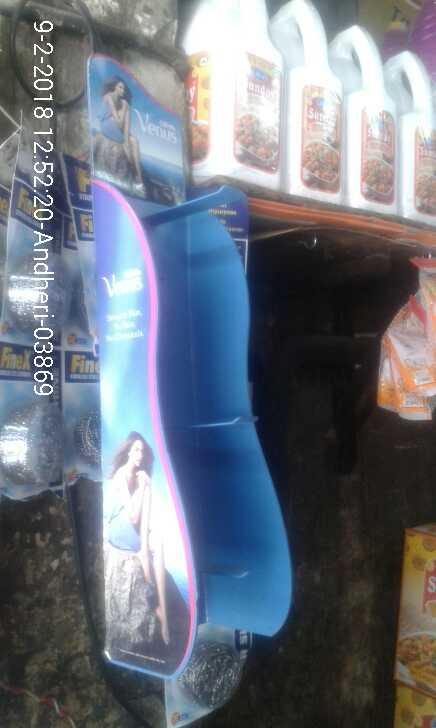reject: (124, 245, 238, 486)
